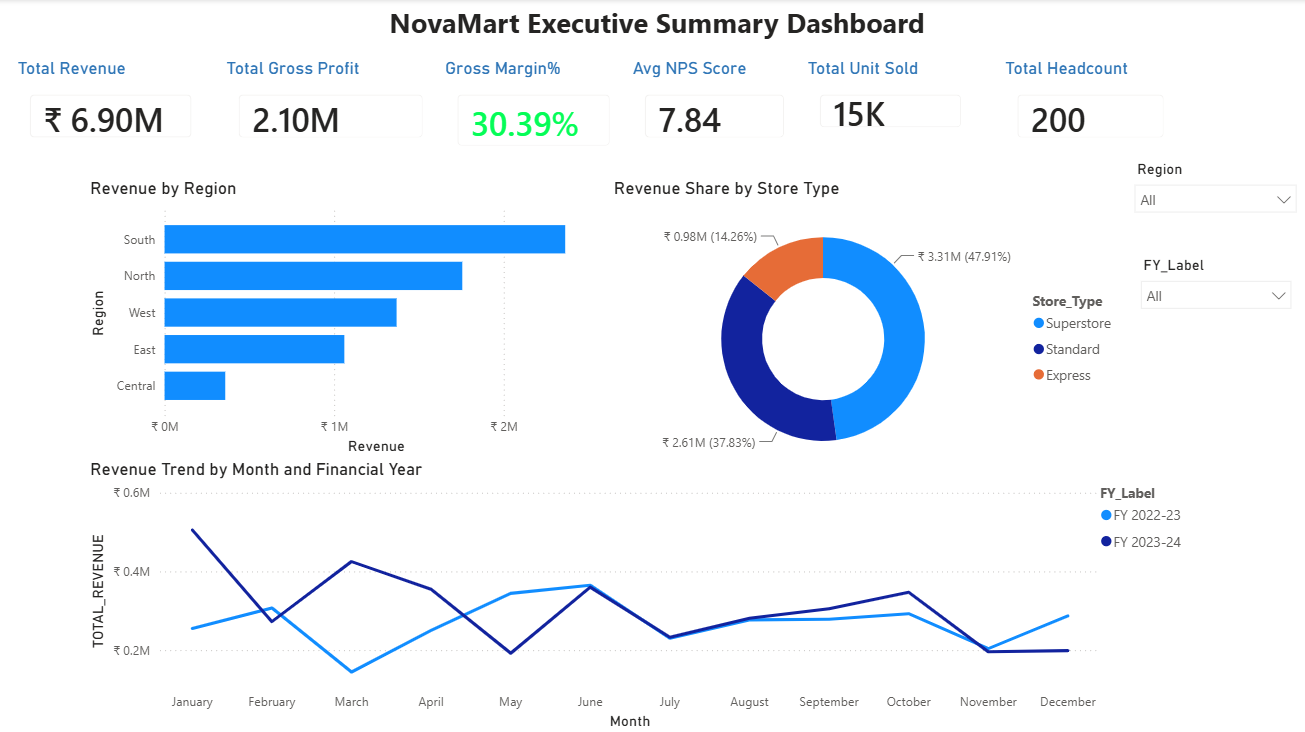

Layout of this report page (visuals, bound fields, positions):
{"tool":"powerbi","page":{"name":"Executive Summary","canvas":[1280,720],"ordinal":0},"visuals":[{"type":"cardVisual","title":"Total Revenue","fields":{"Data":["Foundational Revenue and Profitability Measures.TOTAL_REVENUE"]},"box":[13.7,57.4,192.1,96.1],"z":0},{"type":"cardVisual","title":"Total Gross Profit","fields":{"Data":["Foundational Revenue and Profitability Measures.Total_Gross_Profit"]},"box":[217.1,57.4,214.6,96.1],"z":1000},{"type":"cardVisual","title":"Gross Margin%","fields":{"Data":["Foundational Revenue and Profitability Measures.Gross_Margin%"]},"box":[431.7,57.4,183.4,103.5],"z":2000},{"type":"cardVisual","title":"Total Unit Sold","fields":{"Data":["Foundational Revenue and Profitability Measures.Total_Units_Sold"]},"box":[786,57.4,172.2,86.1],"z":3000},{"type":"cardVisual","title":"Avg NPS Score","fields":{"Data":["Customer and Employee Measures.Avg NPS Score"]},"box":[615,57.4,170.9,96.1],"z":4000},{"type":"cardVisual","title":"Total Headcount","fields":{"Data":["Customer and Employee Measures.Total Headcount"]},"box":[979.3,57.4,177.2,96.1],"z":5000},{"type":"clusteredBarChart","title":"Revenue by Region","fields":{"Y":["Foundational Revenue and Profitability Measures.TOTAL_REVENUE"],"Category":["Stores.Region"]},"box":[84.8,174.7,511.5,275.7],"z":6000},{"type":"lineChart","title":"Revenue Trend by Month and Financial Year","fields":{"Y":["Foundational Revenue and Profitability Measures.TOTAL_REVENUE"],"Category":["Sales_Transactions.Date.Variation.Date Hierarchy.Month"],"Series":["Sales_Transactions.FY_Label"]},"box":[84.8,450.4,1086.6,269.5],"z":7000},{"type":"donutChart","title":"Revenue Share by Store Type","fields":{"Category":["Stores.Store_Type"],"Y":["Foundational Revenue and Profitability Measures.TOTAL_REVENUE"]},"box":[596.3,174.7,505.3,296.9],"z":8000},{"type":"slicer","fields":{"Values":["Stores.Region"]},"box":[1101,153,178.7,80.3],"z":9000},{"type":"slicer","fields":{"Values":["Sales_Transactions.FY_Label"]},"box":[1106.7,247,167.5,75.8],"z":10000},{"type":"textbox","box":[280.7,0,707.4,57.4],"z":11000}]}

Visuals, with their boxes in screenshot pixels (x1, y1, x2, y2), scaled from the page's 1280x720 canvas onto the 1305x732 screenshot:
"Total Revenue" cardVisual: [14, 58, 210, 156]
"Total Gross Profit" cardVisual: [221, 58, 440, 156]
"Gross Margin%" cardVisual: [440, 58, 627, 164]
"Total Unit Sold" cardVisual: [801, 58, 977, 146]
"Avg NPS Score" cardVisual: [627, 58, 801, 156]
"Total Headcount" cardVisual: [998, 58, 1179, 156]
"Revenue by Region" clusteredBarChart: [86, 178, 608, 458]
"Revenue Trend by Month and Financial Year" lineChart: [86, 458, 1194, 731]
"Revenue Share by Store Type" donutChart: [608, 178, 1123, 479]
slicer - Stores.Region: [1123, 156, 1304, 237]
slicer - Sales_Transactions.FY_Label: [1128, 251, 1299, 328]
textbox: [286, 0, 1007, 58]
